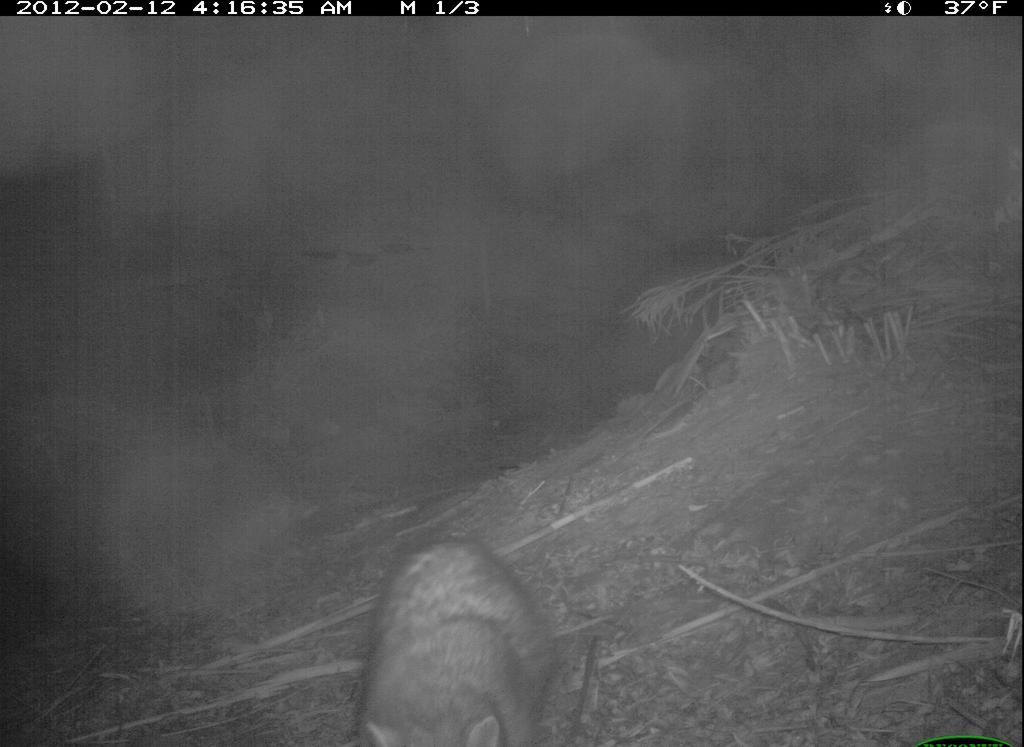raccoon: (351, 534, 577, 747)
